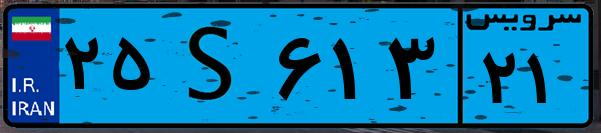1: (330, 28, 385, 110), (525, 38, 570, 115)
2: (57, 26, 110, 100), (475, 38, 525, 113)
3: (385, 28, 445, 110)
5: (110, 28, 158, 98)
6: (270, 28, 330, 110)
S: (158, 12, 270, 120)
